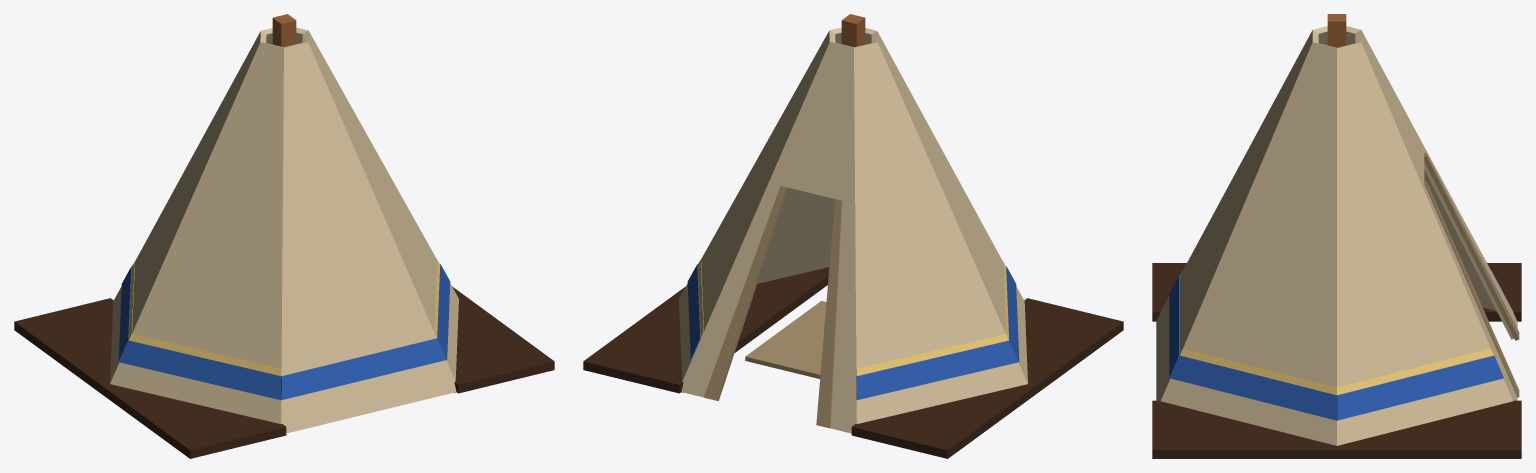
The model's file is 初级帐篷_手游_中.glb.
3 views of the same model, side by side, from view 1: azimuth 30°, elevation 25°; view 2: azimuth 150°, elevation 25°; view 3: azimuth 270°, elevation 25° (orthographic). The views are drawn at different scales.
Parts seen in each view (by area): view 1: TN1-主体, TN1-team, TN1-team_trim; view 2: TN1-主体, TN1-team, TN1-team_trim; view 3: TN1-主体, TN1-team, TN1-team_trim.
Part boxes in pixels (x1,y1,x2,y2): TN1-主体: (14,14,554,458); TN1-team: (118,264,450,400); TN1-team_trim: (129,259,439,376); TN1-主体: (583,14,1123,458); TN1-team: (687,264,1019,399); TN1-team_trim: (698,259,1008,376); TN1-主体: (1152,14,1521,458); TN1-team: (1169,275,1503,420); TN1-team_trim: (1180,271,1493,395).
Bounding box in the file's own units: 2.65 × 2.32 × 2.22.
Materials: 3 (1 with a texture image).
